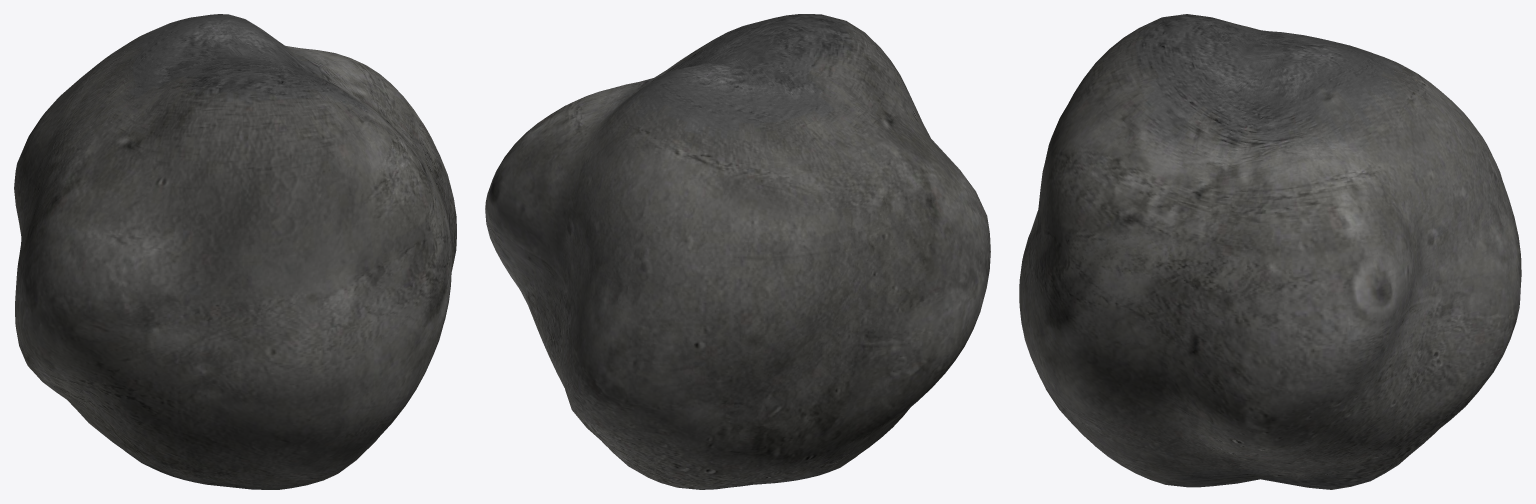
3 views of the same model, side by side, from view 1: azimuth 30°, elevation 25°; view 2: azimuth 150°, elevation 25°; view 3: azimuth 270°, elevation 25° (orthographic). The views are drawn at different scales.
Visible parts, largest first — view 1: ky26; view 2: ky26; view 3: ky26.
Part boxes in pixels (x1,y1,x2,y2): ky26: [14, 14, 456, 489]; ky26: [485, 14, 990, 489]; ky26: [1019, 14, 1521, 489].
Bounding box in the file's own units: 1.33 × 1.2 × 1.26.
1 material, 1 textured.
